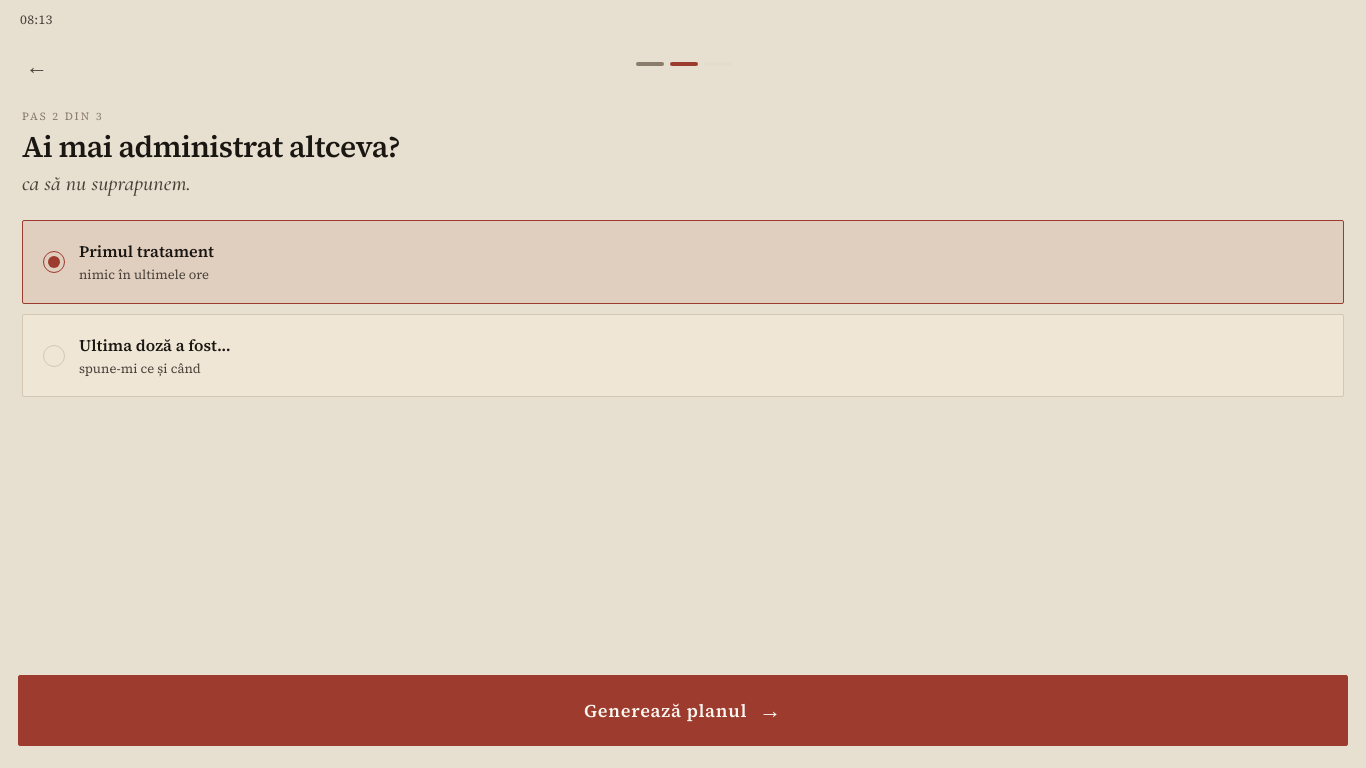
Test: Step2 › offers only the timed antipyretic choices and excludes Virodep
Click the button "Ultima doză a fost... spune-mi ce și când": point(155, 345) x1=22 y1=314 x2=1344 y2=397
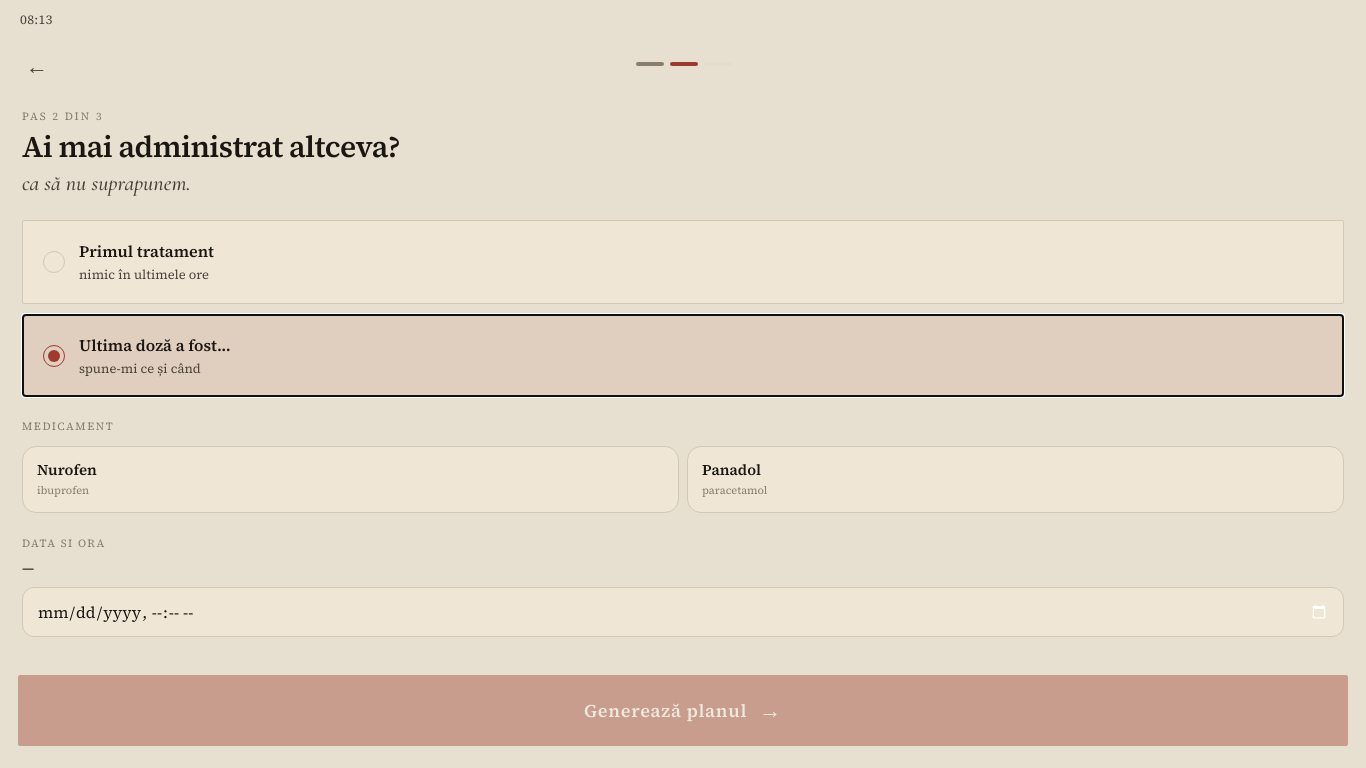
Check: the button "Nurofen ibuprofen" is shown, box x1=22 y1=446 x2=679 y2=513
Check: the button "Panadol paracetamol" is shown, box x1=687 y1=446 x2=1344 y2=513
